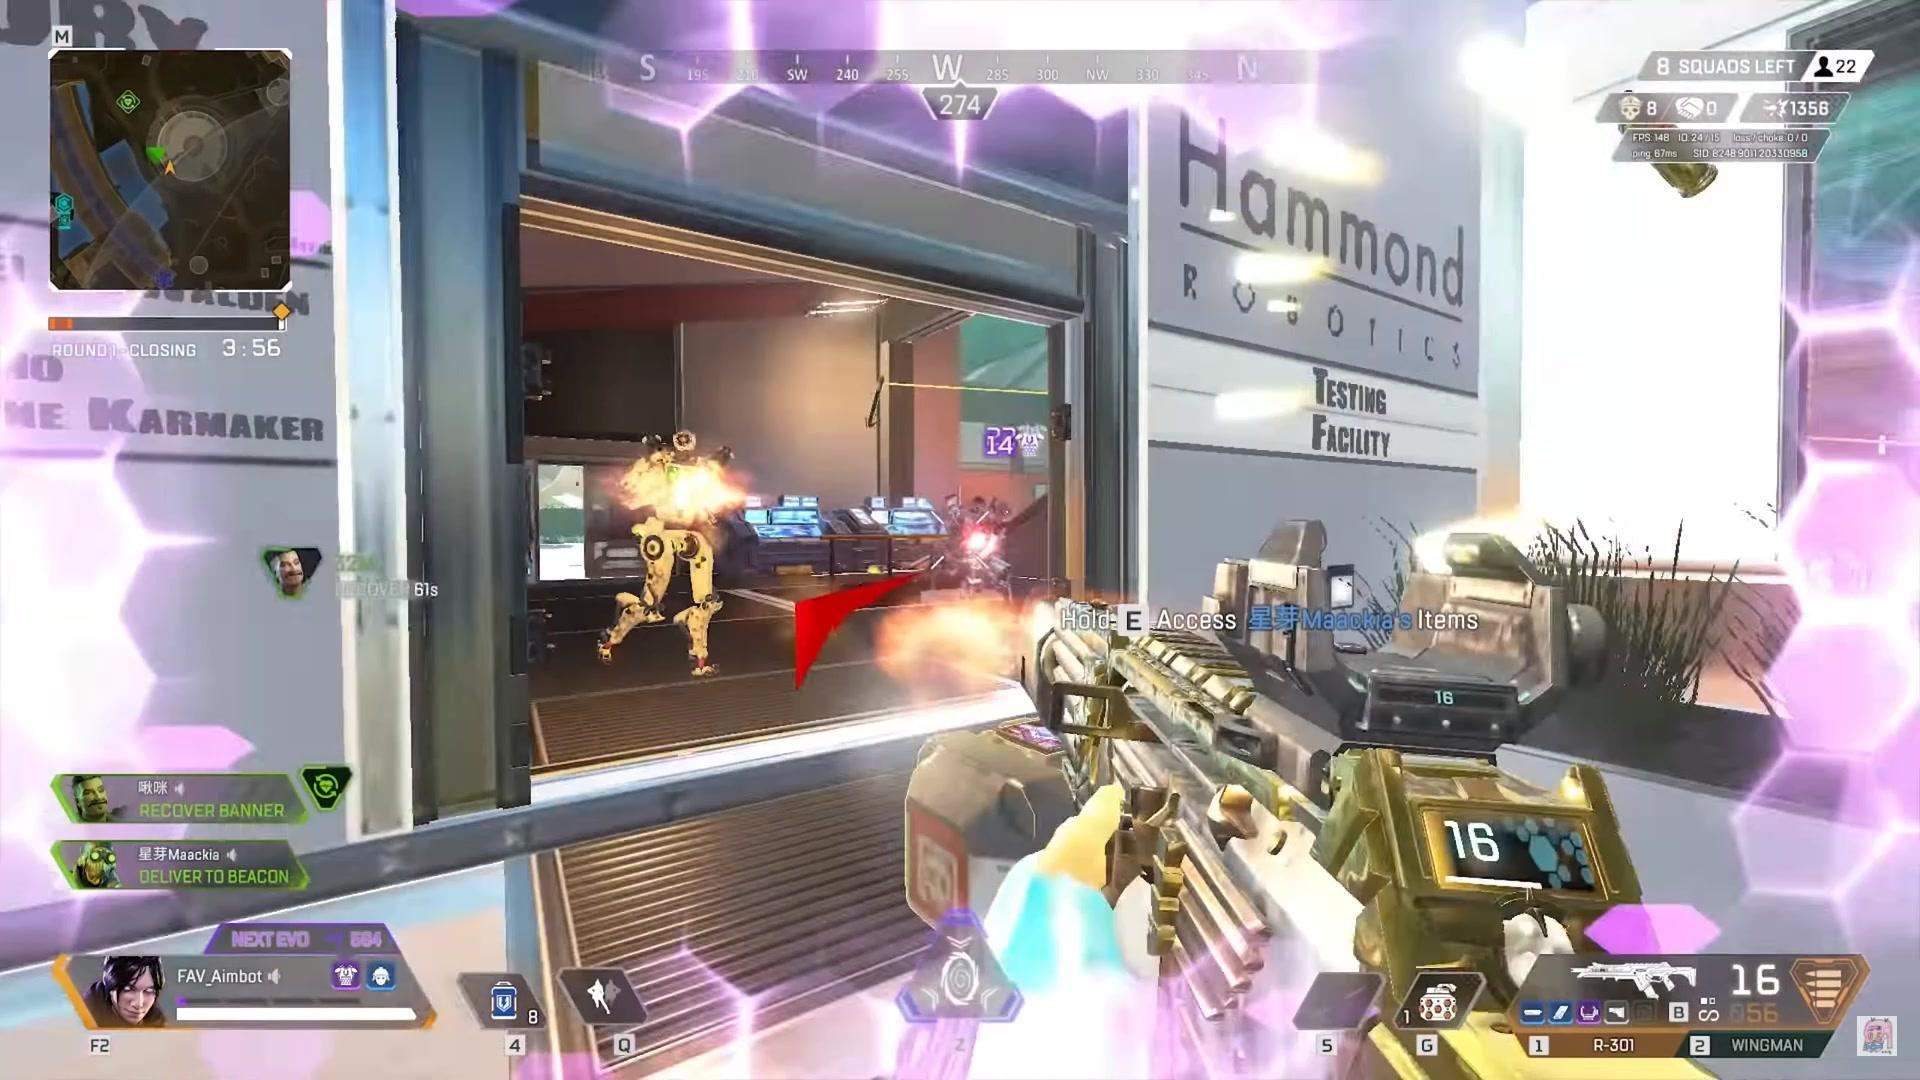avatar: (593, 425, 724, 683)
